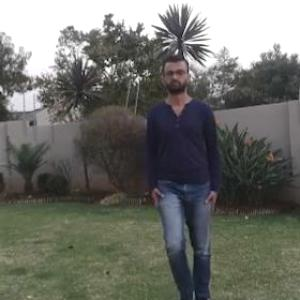follow: (151, 50, 218, 299)
